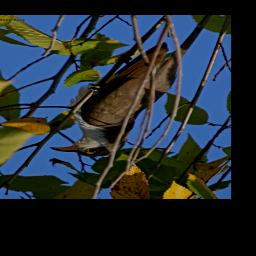Cuckoo: (18, 42, 179, 157)
